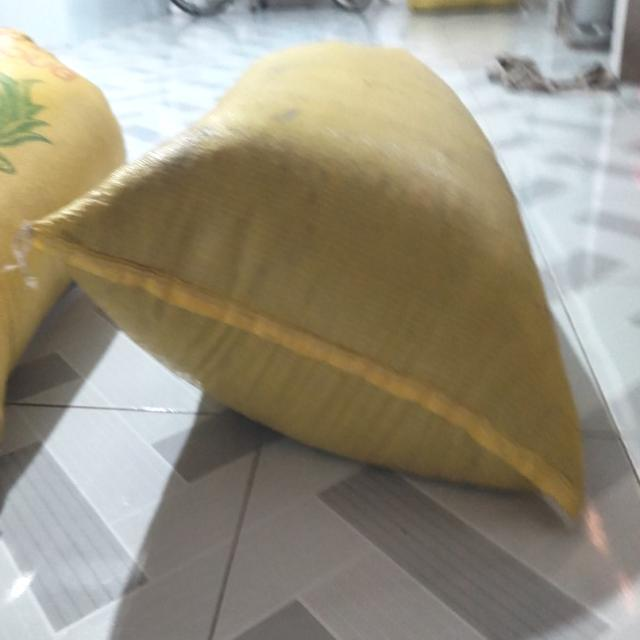gunny_bag: (30, 42, 584, 517)
